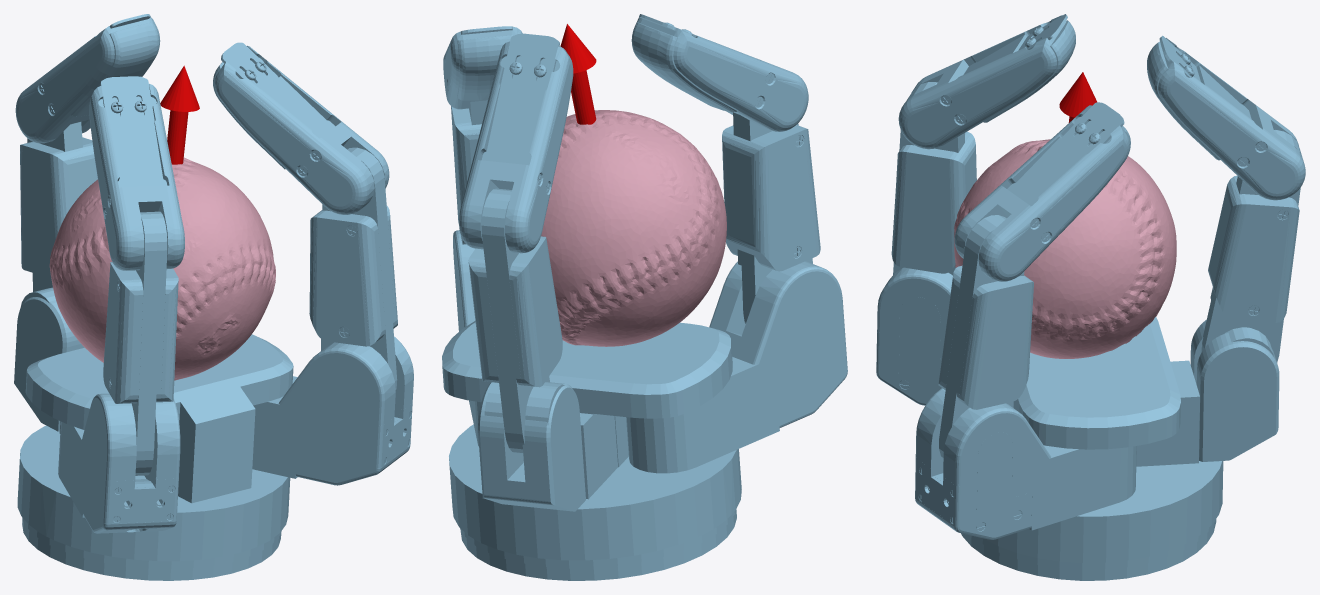
3 renders of one model, left to right at view 1: azimuth 30°, elevation 25°; view 2: azimuth 150°, elevation 25°; view 3: azimuth 270°, elevation 25°, orthographic. The views are drawn at different scales.
Parts seen in each view (by area): view 1: world, baseball.stl; view 2: world, baseball.stl; view 3: world, baseball.stl.
Boxes of the visible parts, bbox=[...] form: world: bbox=[14, 14, 413, 580]; baseball.stl: bbox=[49, 157, 275, 380]; world: bbox=[442, 14, 847, 580]; baseball.stl: bbox=[541, 110, 726, 346]; world: bbox=[876, 14, 1305, 580]; baseball.stl: bbox=[954, 139, 1176, 358].
Size of the model in its own units: 0.1282 by 0.1772 by 0.14.
